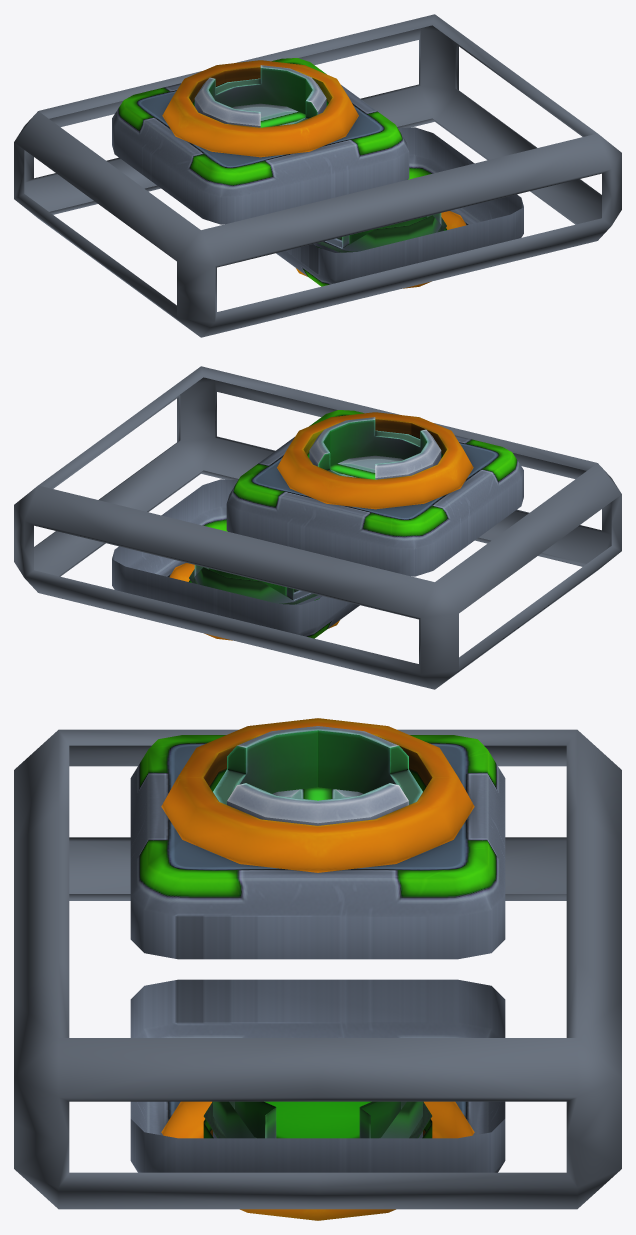
Rendered from fant_mcp_offset_1.obj.
3 views of the same model, one above another, from view 1: azimuth 30°, elevation 25°; view 2: azimuth 150°, elevation 25°; view 3: azimuth 270°, elevation 25° (orthographic). The views are drawn at different scales.
Visible parts, largest first — view 1: fant_mcp_offset_1_Mesh; view 2: fant_mcp_offset_1_Mesh; view 3: fant_mcp_offset_1_Mesh.
Part boxes in pixels (x1,y1,x2,y2): fant_mcp_offset_1_Mesh: (14, 14, 621, 337); fant_mcp_offset_1_Mesh: (14, 366, 621, 689); fant_mcp_offset_1_Mesh: (14, 718, 621, 1220).
Size of the model in its own units: 3.88 by 1.67 by 2.88.
